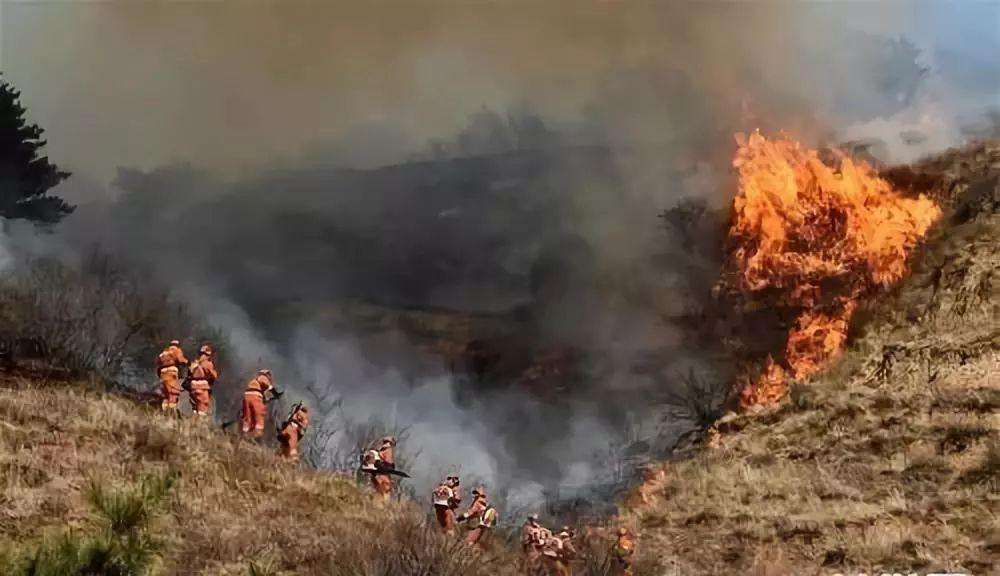fire: (715, 112, 949, 404)
